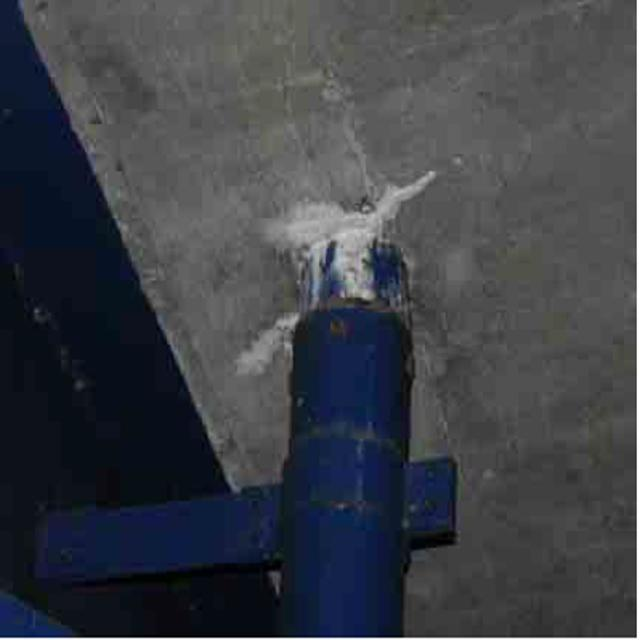freelime: (294, 133, 427, 298)
